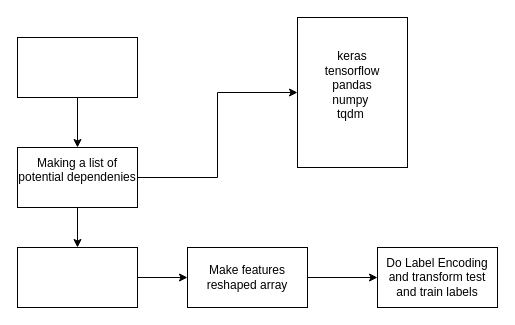
Image size: 515x325. Some labels were removed from this diagram. The box of each missing label's shape, as (x1, y1, x2, y2) in pixels:
Create a training dataset having <path> <emotion>.. dataFrame: (16, 246, 138, 308)
Dowload a Dataset: (16, 36, 138, 98)
